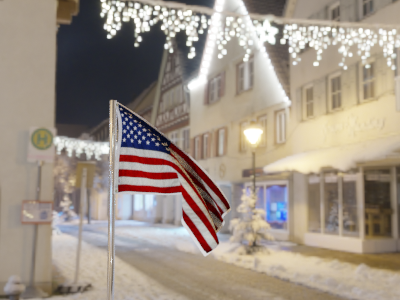America flag: (113, 101, 233, 256)
